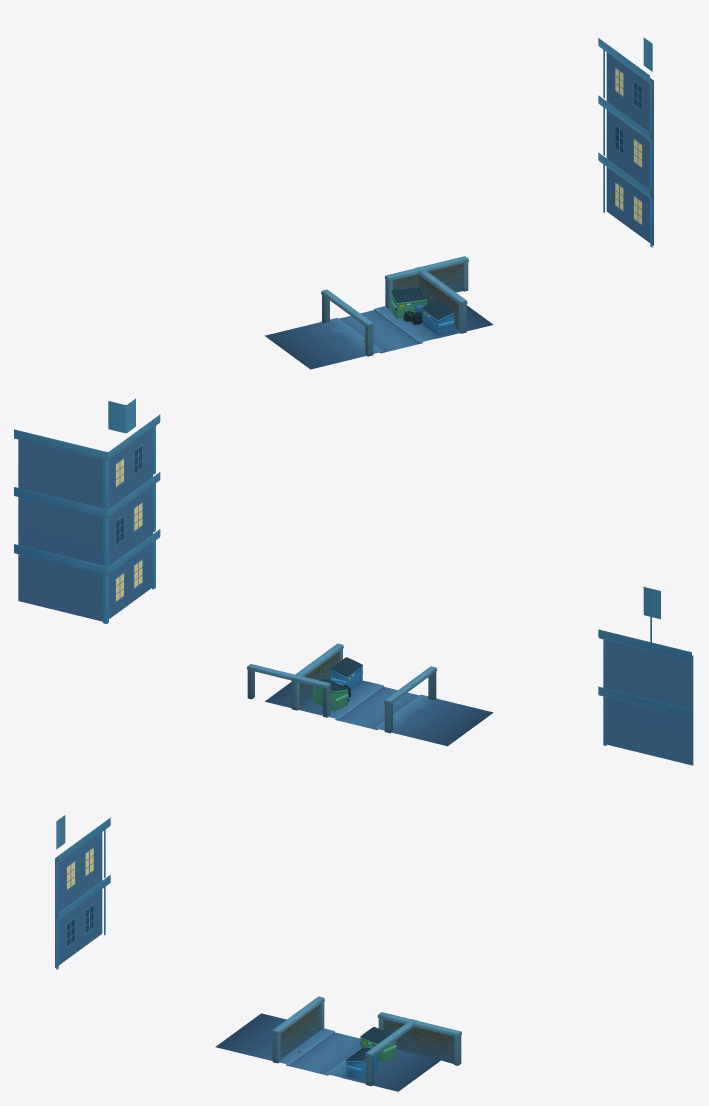
File: UrbanDumpsters02.prefab.glb
3 renders of one model, top to bottom at view 1: azimuth 30°, elevation 25°; view 2: azimuth 150°, elevation 25°; view 3: azimuth 330°, elevation 25°, orthographic.
Visible parts, largest first — view 1: FarBackBuilding01, UrbanDumpsters02, BrickWall (2), BrickWall, BrickWall (1), DumpsterBlue, DumpsterGreen; view 2: FarBackBuilding01, UrbanDumpsters02, BrickWall, BrickWall (2), BrickWall (1), DumpsterBlue, DumpsterGreen; view 3: FarBackBuilding01, UrbanDumpsters02, BrickWall (2), BrickWall (1), BrickWall, DumpsterGreen, DumpsterBlue.
Part boxes in pixels (box(x1,y1,x2,y2)): FarBackBuilding01: box(598, 37, 653, 247); UrbanDumpsters02: box(264, 305, 493, 369); BrickWall (2): box(384, 256, 468, 308); BrickWall: box(415, 266, 467, 333); BrickWall (1): box(321, 289, 373, 356); DumpsterBlue: box(422, 300, 454, 335); DumpsterGreen: box(390, 287, 427, 318); FarBackBuilding01: box(14, 398, 693, 765); UrbanDumpsters02: box(265, 680, 493, 746); BrickWall: box(291, 643, 343, 710); BrickWall (2): box(247, 664, 330, 717); BrickWall (1): box(384, 666, 437, 733); DumpsterBlue: box(330, 657, 362, 689); DumpsterGreen: box(313, 679, 348, 710); FarBackBuilding01: box(55, 815, 110, 969); UrbanDumpsters02: box(215, 1013, 440, 1091); BrickWall (2): box(377, 1012, 461, 1065); BrickWall (1): box(271, 996, 324, 1063); BrickWall: box(365, 1019, 416, 1086); DumpsterGreen: box(360, 1027, 396, 1062); DumpsterBlue: box(346, 1048, 377, 1080).
Bounding box in the file's own units: 76.34 × 26.74 × 10.17.
Materials: 5 (4 with a texture image).
